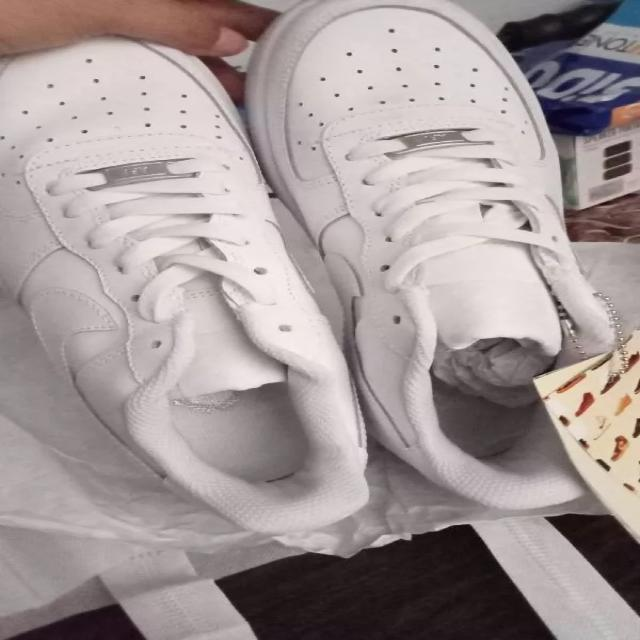nike fake air force: (240, 0, 635, 516), (0, 35, 374, 535)
